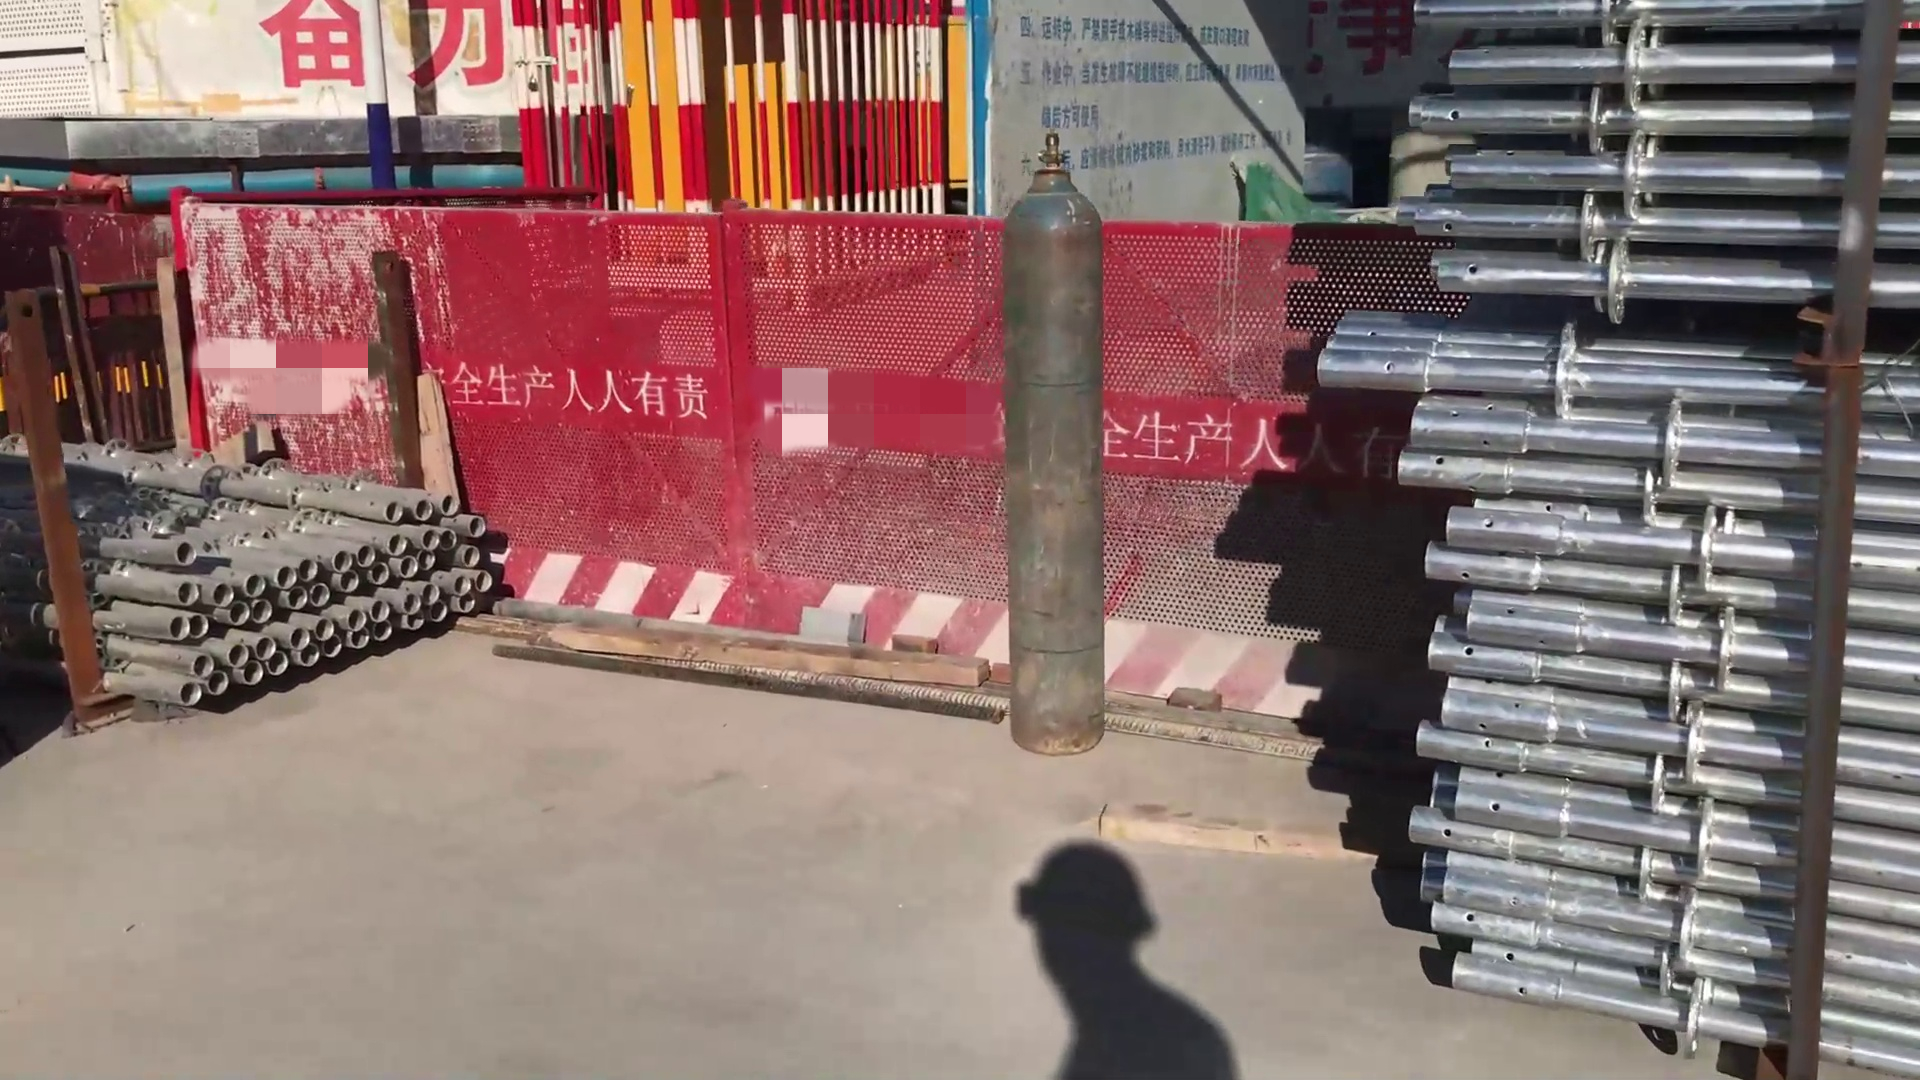fence: (186, 203, 1006, 676), (516, 7, 982, 206), (44, 272, 179, 433)
scaffold: (1255, 22, 1920, 1073), (40, 430, 521, 727)
